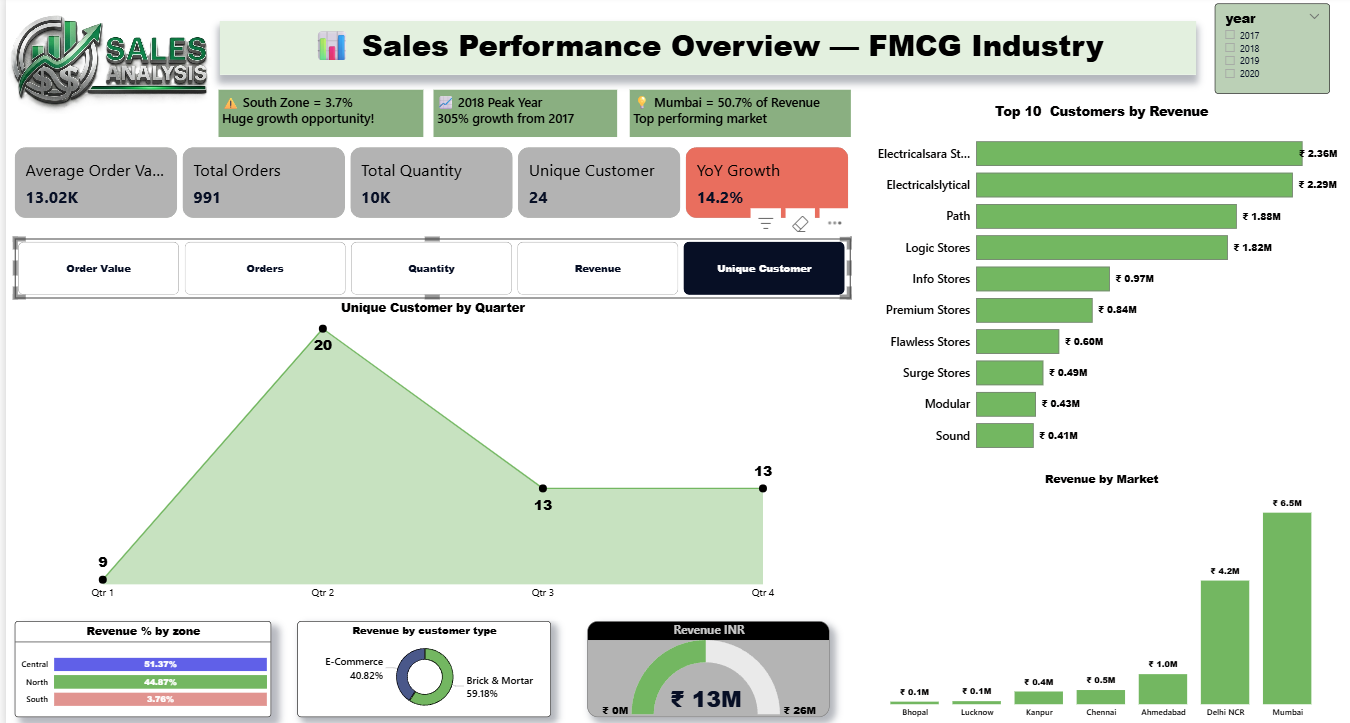

Layout of this report page (visuals, bound fields, positions):
{"tool":"powerbi","page":{"name":"Page 1","canvas":[1980,1080],"ordinal":0},"visuals":[{"type":"lineChart","fields":{"Y":["customer_table.Unique Customer"],"Category":["date_table.date.Variation.Date Hierarchy.Quarter"]},"box":[12.9,445.4,1231.3,449.1],"z":0},{"type":"clusteredColumnChart","title":"Revenue by Market","fields":{"Category":["markets_table.markets_name"],"Y":["customer_table.Revenue INR"]},"box":[1260.7,699.4,704.9,373.6],"z":1000},{"type":"gauge","fields":{"Y":["Measure_selector.Revenue INR"]},"box":[855.8,920.3,357.1,141.7],"z":2000},{"type":"clusteredBarChart","title":"Top 10  Customers by Revenue","fields":{"Category":["customer_table.customer_name"],"Y":["customer_table.Revenue INR"]},"box":[1260.7,156.4,704.9,528.2],"z":3000},{"type":"hundredPercentStackedBarChart","title":"Revenue % by zone","fields":{"Category":["markets_table.zone"],"Y":["Measure_selector.Revenue %"]},"box":[12.9,920.3,377.3,141.7],"z":4000},{"type":"donutChart","title":"Revenue by customer type","fields":{"Category":["customer_table.customer_type"],"Y":["Sum(transactions_table.sales_amount)"]},"box":[428.8,920.3,373.6,141.7],"z":5000},{"type":"cardVisual","fields":{"Data":["customer_table.Average Order Value","customer_table.Total Orders","customer_table.Total Quantity","customer_table.Unique Customer","Measure_selector.YoY Growth"]},"box":[12.9,222.7,1231.3,104.9],"z":6000},{"type":"image","box":[0,16.6,303.7,156.4],"z":7000},{"type":"advancedSlicerVisual","fields":{"Values":["Measure_selector.Measure_selector"]},"box":[12.9,357.1,1231.3,88.3],"z":8000},{"type":"textbox","box":[918.4,138,325.8,69.9],"z":9000},{"type":"textbox","box":[629.5,138,270.6,69.9],"z":10000},{"type":"textbox","box":[312.9,138,301.8,69.9],"z":11000},{"type":"slicer","fields":{"Values":["date_table.year"]},"box":[1779.8,11,169.3,132.5],"z":12000},{"type":"textbox","box":[314.7,36.8,1437.4,79.1],"z":13000}]}

Visuals, with their boxes in screenshot pixels (x1, y1, x2, y2), scaled from the page's 1980x1080 canvas onto the 1350x723 screenshot:
lineChart - customer_table.Unique Customer x date_table.date.Variation.Date Hierarchy.Quarter: l=9, t=298, r=848, b=599
"Revenue by Market" clusteredColumnChart: l=860, t=468, r=1340, b=718
gauge - Measure_selector.Revenue INR: l=583, t=616, r=827, b=711
"Top 10  Customers by Revenue" clusteredBarChart: l=860, t=105, r=1340, b=458
"Revenue % by zone" hundredPercentStackedBarChart: l=9, t=616, r=266, b=711
"Revenue by customer type" donutChart: l=292, t=616, r=547, b=711
cardVisual - customer_table.Average Order Value x customer_table.Total Orders: l=9, t=149, r=848, b=219
image: l=0, t=11, r=207, b=116
advancedSlicerVisual - Measure_selector.Measure_selector: l=9, t=239, r=848, b=298
textbox: l=626, t=92, r=848, b=139
textbox: l=429, t=92, r=614, b=139
textbox: l=213, t=92, r=419, b=139
slicer - date_table.year: l=1213, t=7, r=1329, b=96
textbox: l=215, t=25, r=1195, b=78
